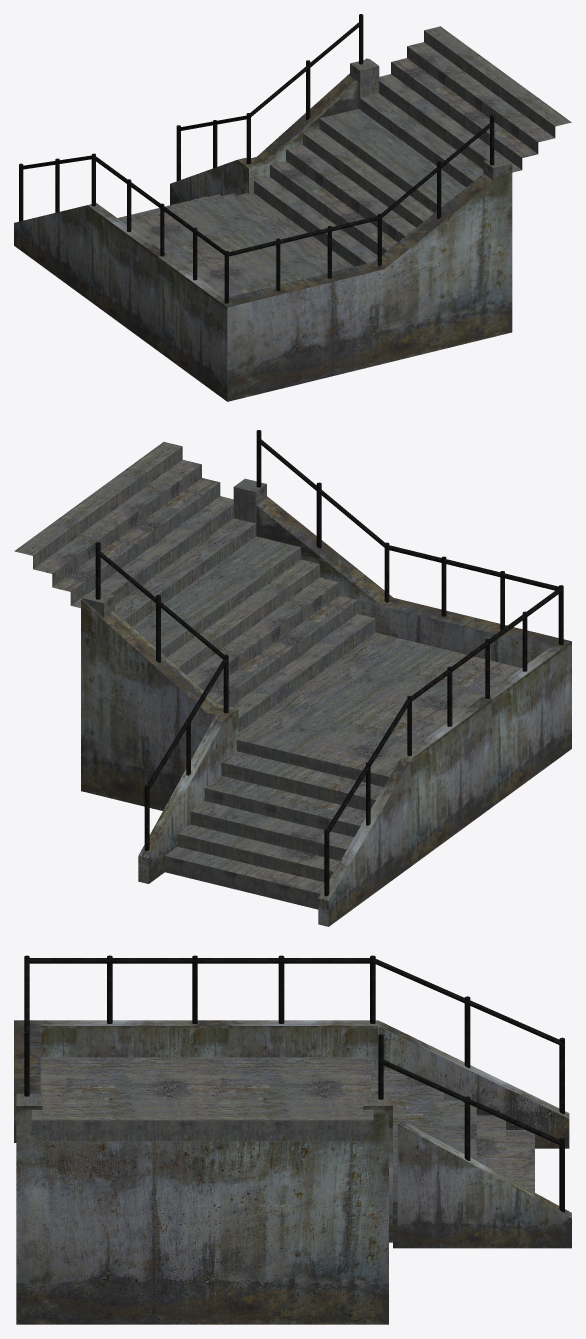
File: upperStairs.glb
3 views of the same model, one above another, from view 1: azimuth 30°, elevation 25°; view 2: azimuth 150°, elevation 25°; view 3: azimuth 270°, elevation 25° (orthographic). The views are drawn at different scales.
Parts seen in each view (by area): view 1: objStair; view 2: objStair; view 3: objStair.
Boxes of the visible parts, left/top/right/bottom form: objStair: left=14, top=14, right=571, bottom=401; objStair: left=14, top=430, right=571, bottom=926; objStair: left=14, top=955, right=571, bottom=1324.
Bounding box in the file's own units: 2.71 × 1.6 × 2.86.
Materials: 3 (3 with a texture image).
